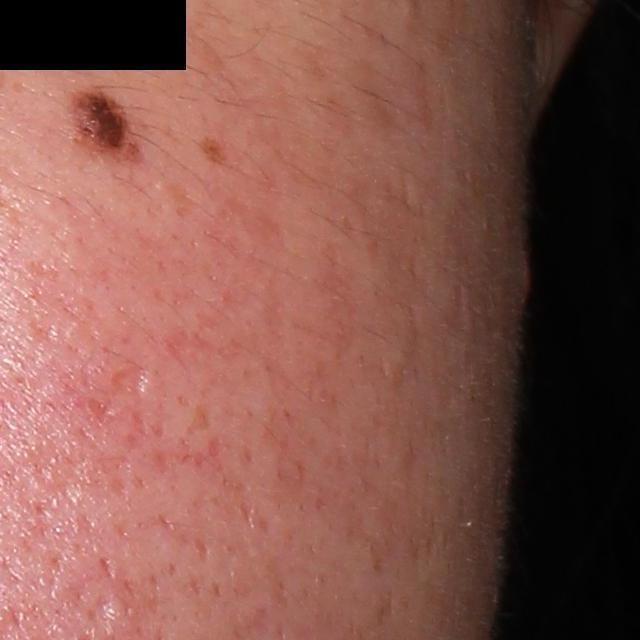atrophic_scar: (106, 361, 153, 400)
melasma: (194, 137, 234, 171)
nevus: (70, 89, 145, 164)
